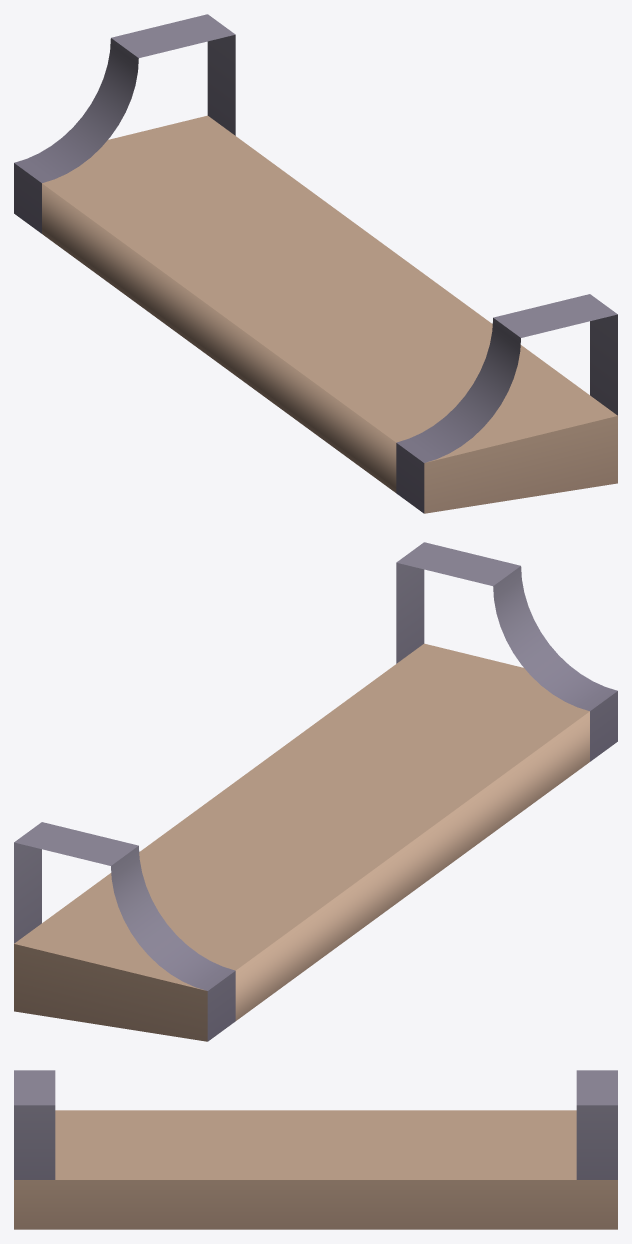
File: shelf-hanging-decorative-long (%wall).glb
The picture shows the model from 3 angles, top to bottom: view 1: azimuth 30°, elevation 25°; view 2: azimuth 150°, elevation 25°; view 3: azimuth 270°, elevation 25°; orthographic projection. The views are drawn at different scales.
Visible parts, largest first — view 1: shelf-hanging-decorative-long (%wall); view 2: shelf-hanging-decorative-long (%wall); view 3: shelf-hanging-decorative-long (%wall).
Part boxes in pixels (<box>): shelf-hanging-decorative-long (%wall): <box>14,14,617,513</box>; shelf-hanging-decorative-long (%wall): <box>14,542,617,1041</box>; shelf-hanging-decorative-long (%wall): <box>14,1070,617,1229</box>.
Size of the model in its own units: 0.3 by 0.25 by 1.1.
